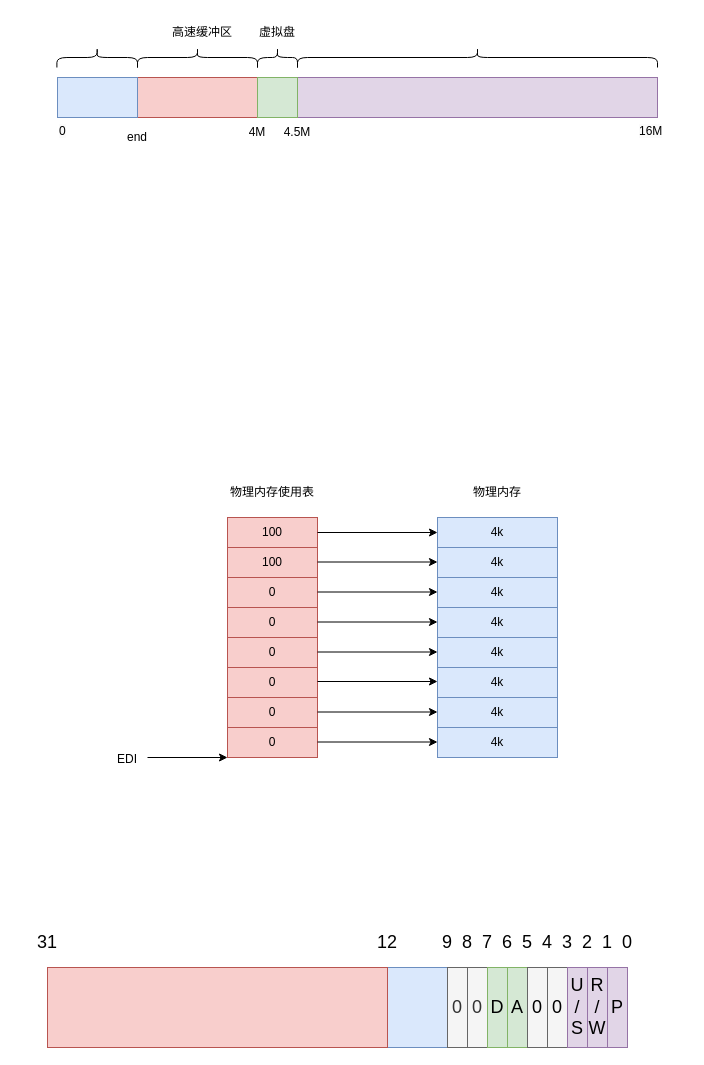
Some shapes in this 704 by 1065 pixel diagram are drawn without their labels. Each missing label, with the box of its shape:
AVL: (386, 966, 448, 1048)
主内存区: (296, 46, 658, 68)
内核模块: (56, 46, 138, 68)
页帧地址: (46, 966, 388, 1048)
